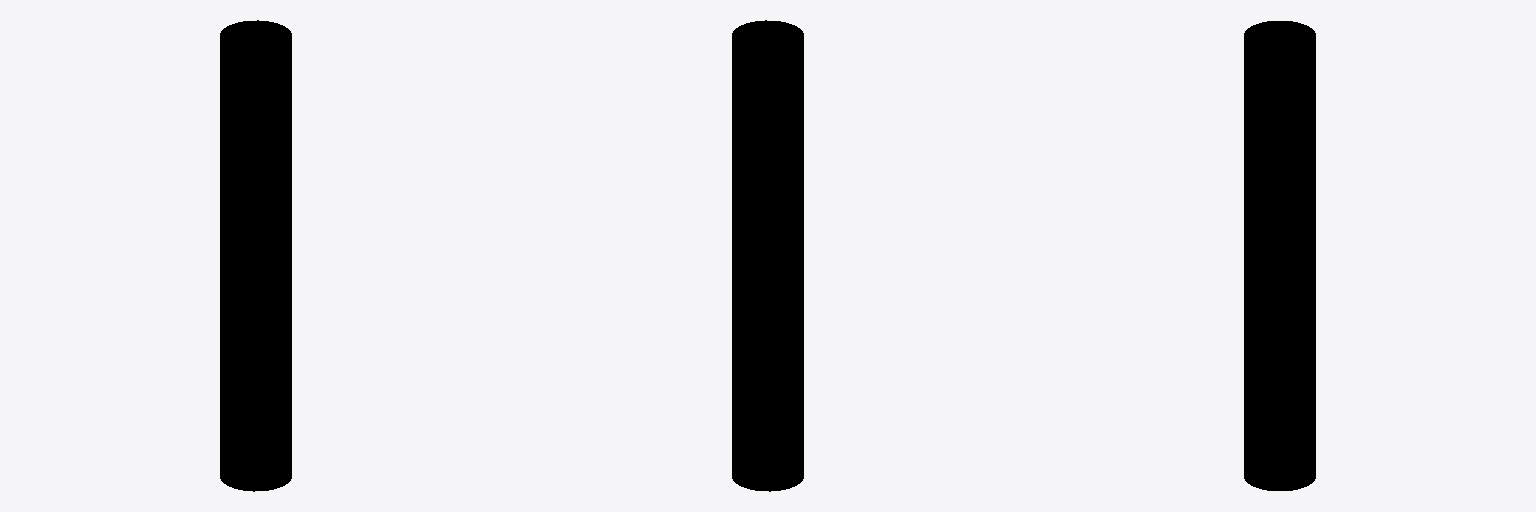
URDF robot description (physics):
<?xml version="1.0"?>
<robot name="physics">

  <link name="link_x">
    <inertial>
      <mass value="0"/>
      <inertia ixx="1.0" ixy="0.0" ixz="0.0" iyy="1.0" iyz="0.0" izz="1.0"/>
    </inertial>
  </link>

  <link name="link_y">
    <inertial>
      <mass value="1"/>
      <inertia ixx="1.0" ixy="0.0" ixz="0.0" iyy="1.0" iyz="0.0" izz="1.0"/>
    </inertial>
  </link>

  <joint name="joint_x" type="prismatic">
    <axis xyz="1 0 0"/>
    <origin xyz="0.0 0.0 0.0"/>
    <parent link="link_x"/>
    <child link="link_y"/>
    <limit effort="1000.0" lower="-15" upper="15" velocity="5"/>
  </joint>

  <link name="tip">
    <visual>
      <geometry>
        <mesh filename="tip_nicer.obj" scale="1.0 1.0 1.0"/>      
      </geometry>
      <origin rpy="0 0 0" xyz="0 0 0"/>
      <material name="black">
        <color rgba="0 0 0 1"/>
      </material>
    </visual>
    <inertial>
    <origin xyz="0 0 0"/>
      <mass value="0.1"/>
      <inertia ixx="1.0" ixy="0.0" ixz="0.0" iyy="1.0" iyz="0.0" izz="1.0"/>
    </inertial>
  </link>

  <joint name="joint_y" type="prismatic">
    <axis xyz="0 1 0"/>
    <origin xyz="0.0 0.0 0"/>
    <parent link="link_y"/>
    <child link="tip"/>
    <limit effort="1000.0" lower="-15" upper="15" velocity="5"/>
  </joint>
  
</robot>

--- Facts derived from the render (not from the file) ---
Views: 3 orthographic renders of the robot side by side, from view 1: azimuth 30°, elevation 25°; view 2: azimuth 150°, elevation 25°; view 3: azimuth 270°, elevation 25°.
Model physics with 3 links and 2 joints (2 prismatic), rooted at link_x, posed every joint at zero.
Visible links, largest first — view 1: tip; view 2: tip; view 3: tip.
Boxes of the visible links, bbox=[...] form: tip: bbox=[220, 20, 291, 491]; tip: bbox=[732, 20, 803, 491]; tip: bbox=[1244, 21, 1315, 490].
Size in the robot's own frame: 0.0094 by 0.0094 by 0.0631 metres.
1 mesh visuals loaded from 1 distinct referenced files (1 OBJ).
